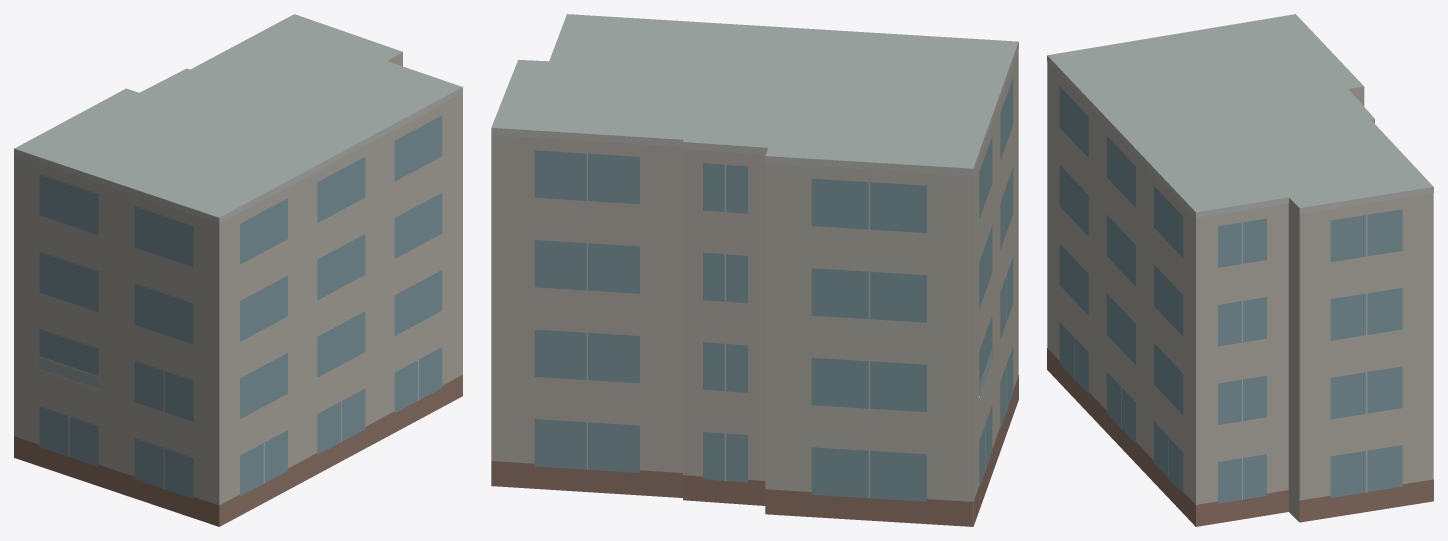
The model's file is survey-upis-32491032.glb.
3 views of the same model, side by side, from view 1: azimuth 30°, elevation 25°; view 2: azimuth 150°, elevation 25°; view 3: azimuth 270°, elevation 25° (orthographic). The views are drawn at different scales.
Parts seen in each view (by area): view 1: survey-upis-32491032.tmp; view 2: survey-upis-32491032.tmp; view 3: survey-upis-32491032.tmp.
Part boxes in pixels (x1,y1,x2,y2): survey-upis-32491032.tmp: (14, 14, 462, 526); survey-upis-32491032.tmp: (491, 14, 1018, 526); survey-upis-32491032.tmp: (1047, 14, 1433, 526).
Size of the model in its own units: 16.79 by 12.4 by 13.83.
